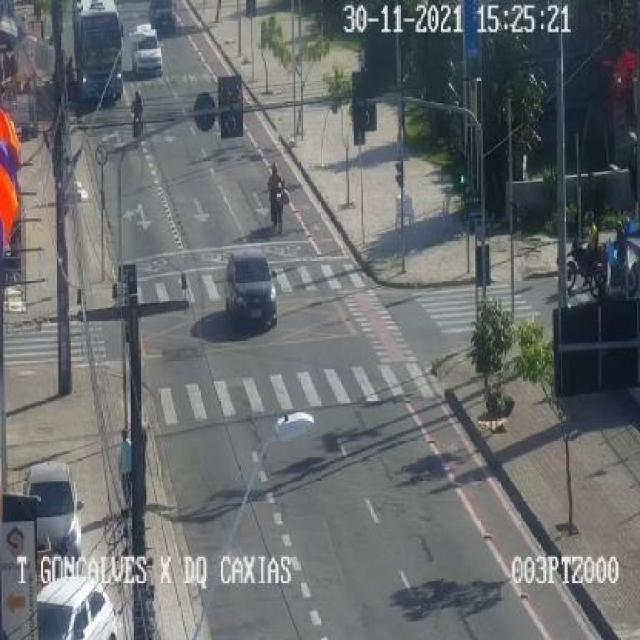Bus: (69, 0, 128, 106)
Car: (21, 463, 85, 557), (36, 577, 118, 639), (225, 251, 277, 327), (130, 25, 162, 77)
Cycle: (585, 248, 640, 301), (562, 241, 610, 292), (268, 184, 288, 234), (129, 104, 144, 138)
